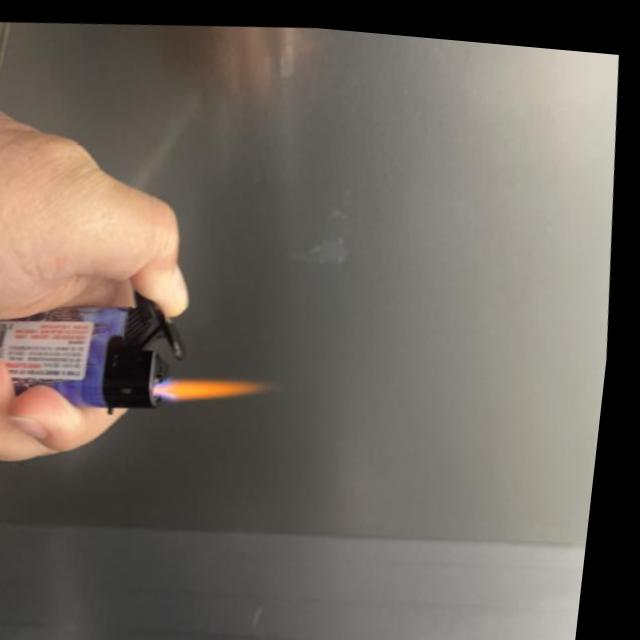Fire: (164, 365, 274, 404)
